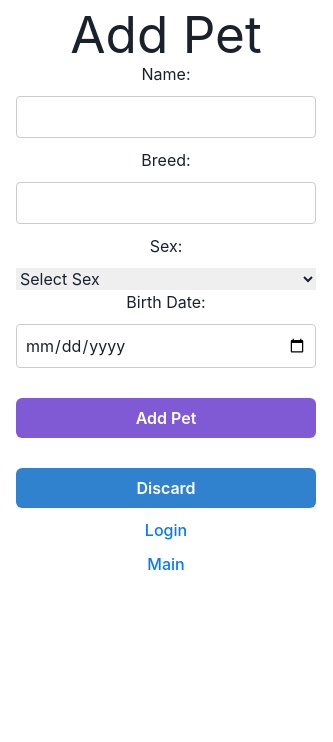
Test: AddPet Component › renders AddPet form and submits data
Type "Buddy" into the field named "name". click: (166, 117)
box: [16, 96, 316, 138]
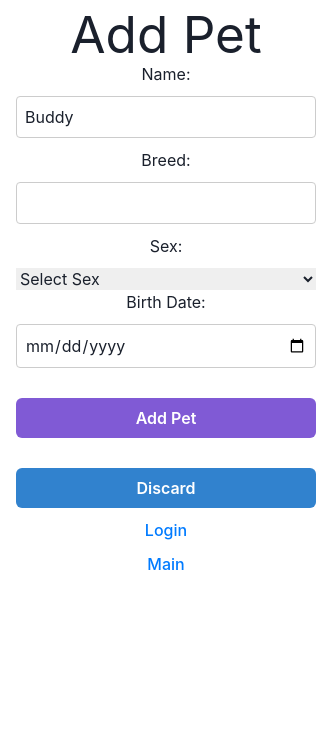
Type "Golden Retriever" into the field named "breed". click: (166, 203)
box: [16, 182, 316, 224]
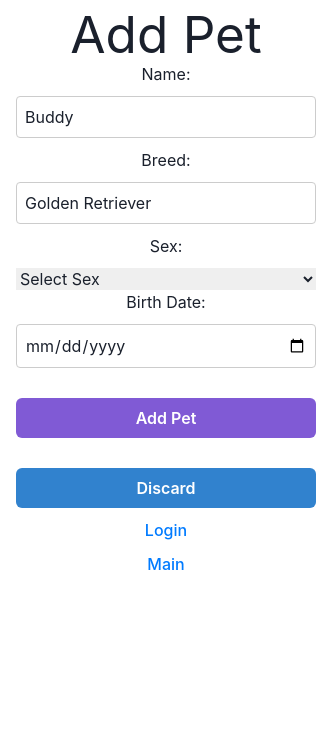
Select "Male" in the dropdown labelled "Sex:". click: (166, 279)
box: [16, 268, 316, 290]
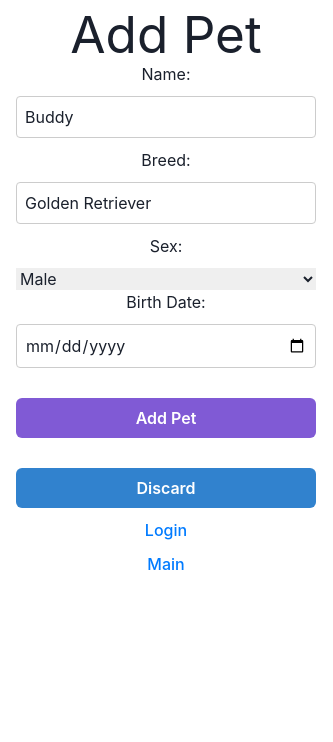
Type "2020-01-01" into the date field named "birthDate". click: (166, 346)
box: [16, 324, 316, 368]
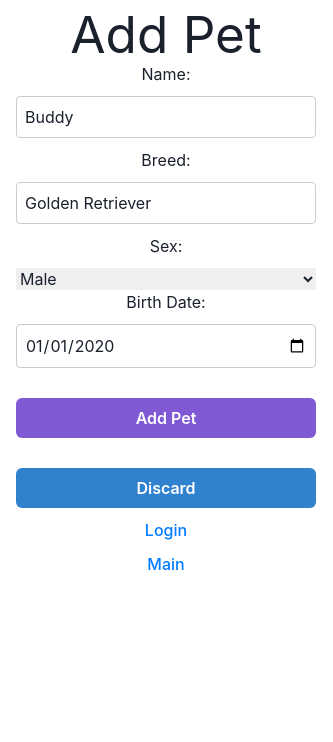
Click the button "Add Pet". click: (166, 418)
box: [16, 398, 316, 438]
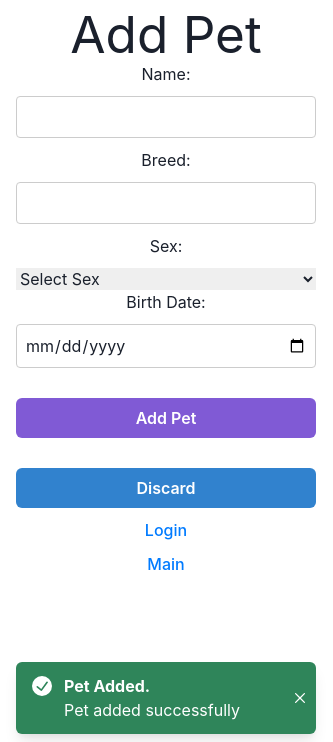
Check: the text "Pet added successfully" is shown, box [64, 700, 240, 720]
